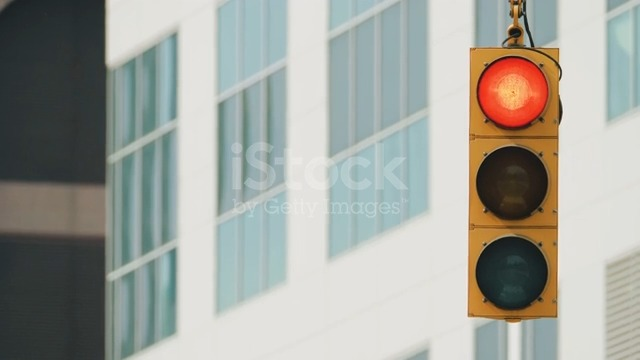red traffic light: (464, 50, 558, 321)
